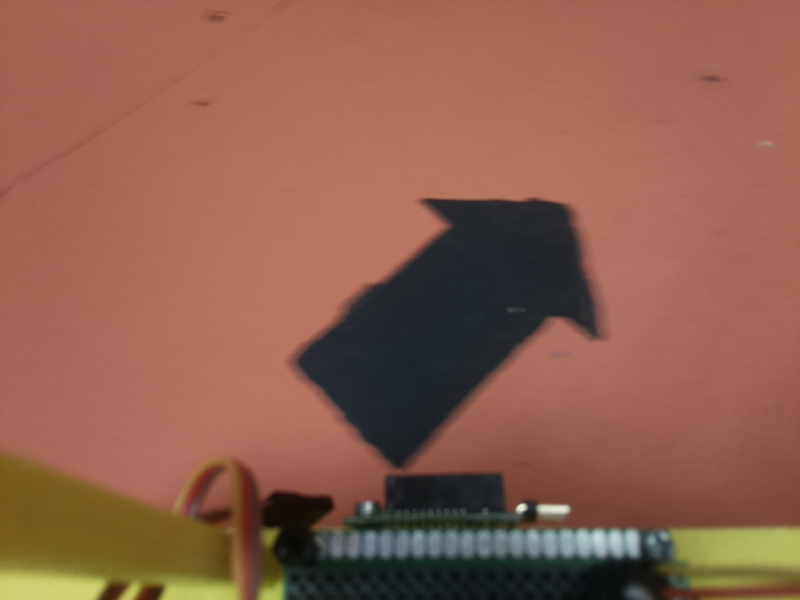start: (287, 198, 603, 473)
